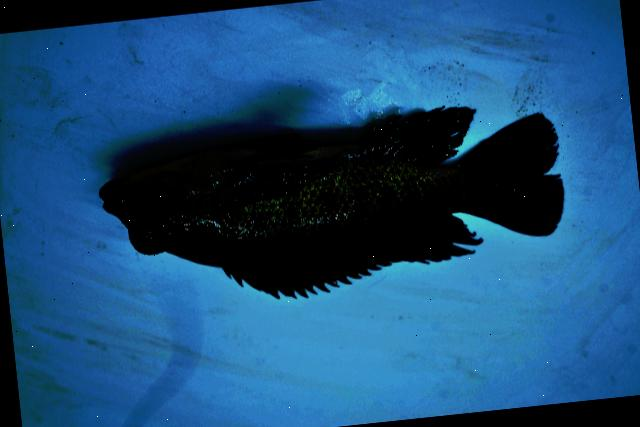Streptococcus: (98, 106, 562, 296), (98, 106, 562, 295), (98, 107, 562, 295)
